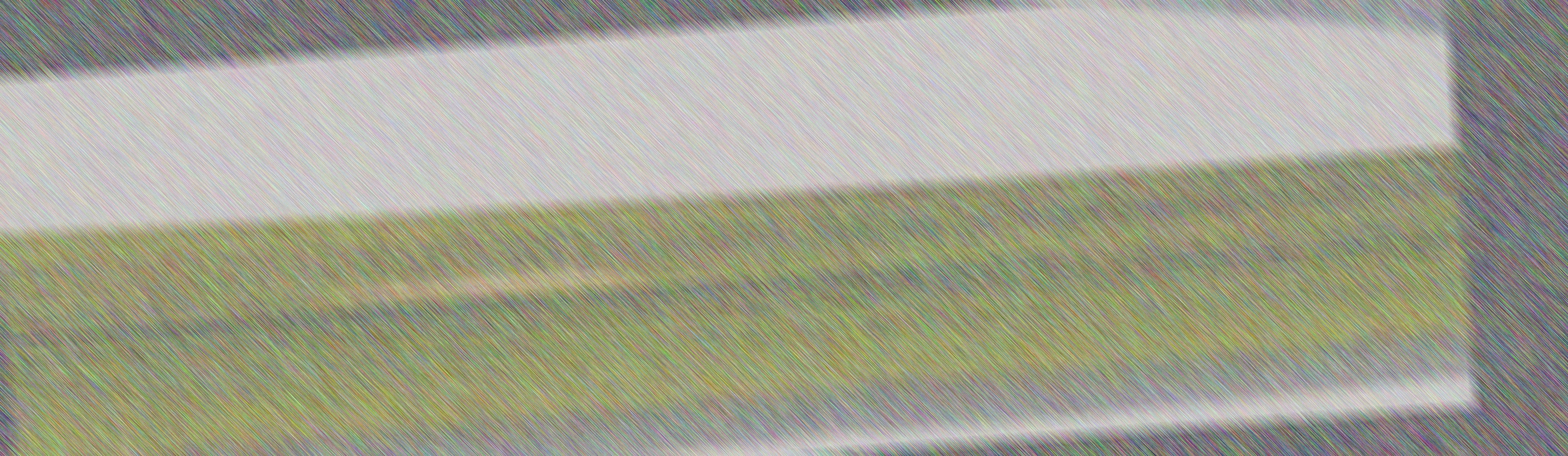Leaf_Blast: (199, 235, 869, 349)
